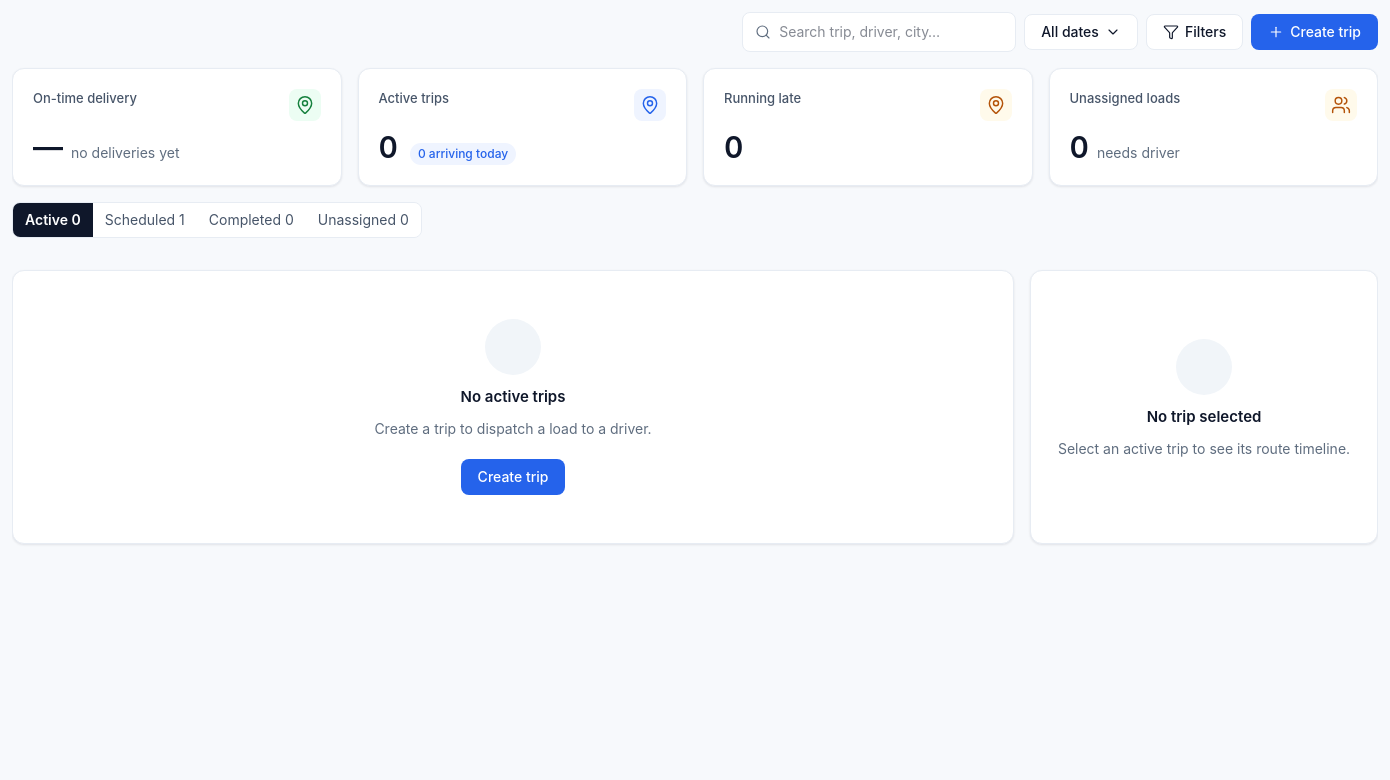
Test: W-11 Dispatch & Trips › FE-007: an ASSIGNED trip with a future pickup is Scheduled/Upcoming, not Active; no deliveries reads —
Check: the button "Active 0" is shown, box [13,203,93,237]
Check: the text "no deliveries yet" is shown, box [71,143,180,163]
What coordinates should you click on to do the following:
click the button "Scheduled 1"
I would click on:
 (145, 220)
Its box is [93,203,197,237].
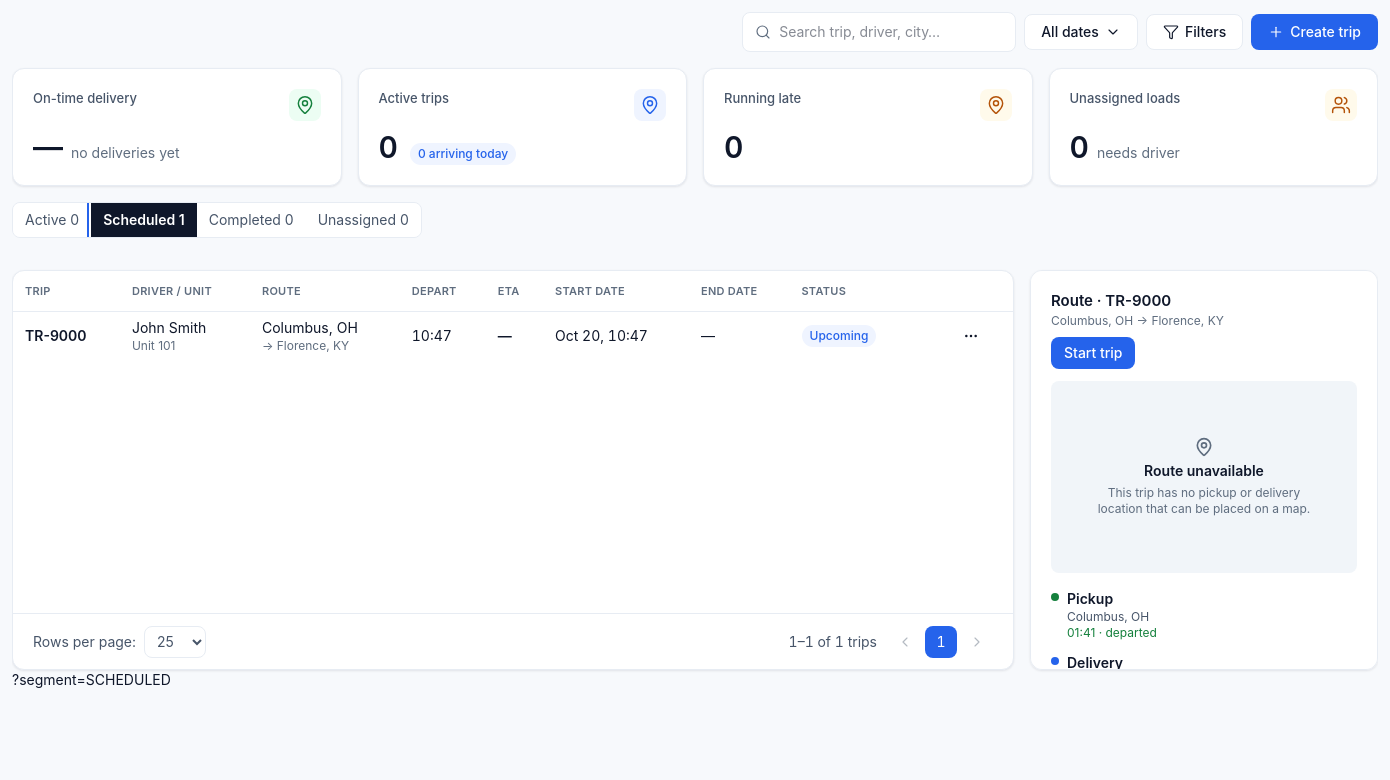
Check: the text "TR-9000" is shown, box [25,326,87,344]
Check: the text "Upcoming" is shown, box [802,324,876,346]
